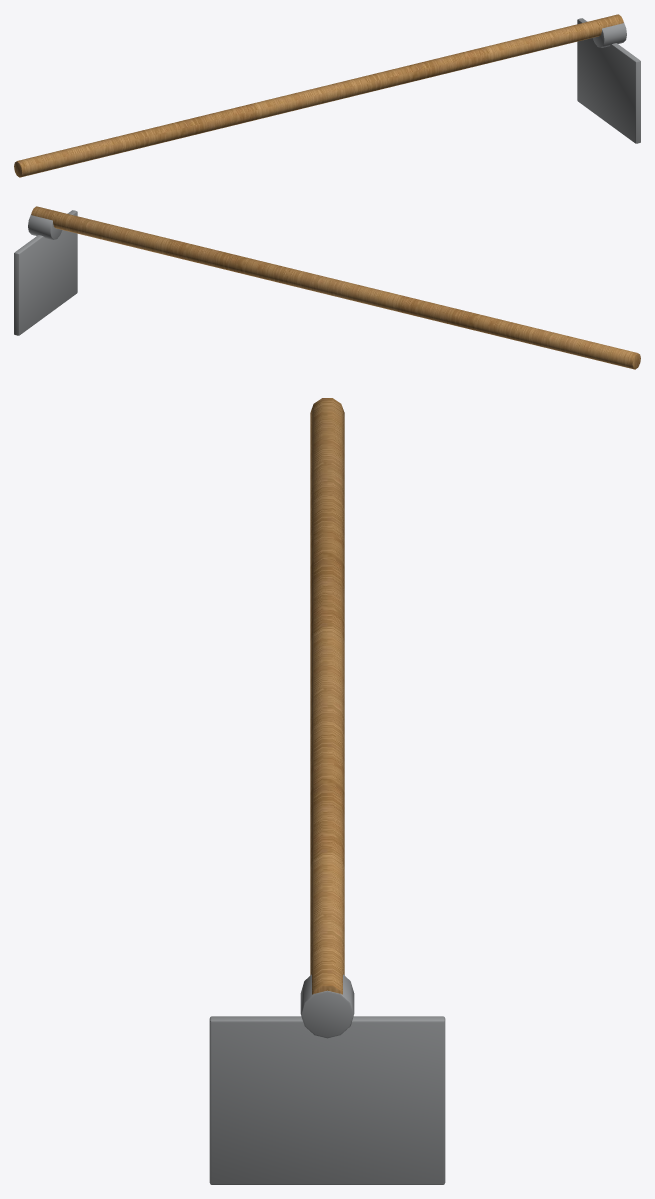
Rendered from EQP-MAO-004.glb.
The picture shows the model from 3 angles, top to bottom: view 1: azimuth 30°, elevation 25°; view 2: azimuth 150°, elevation 25°; view 3: azimuth 270°, elevation 25°; orthographic projection. The views are drawn at different scales.
Parts seen in each view (by area): view 1: EQP-MAO-004_cabo, EQP-MAO-004_lamina, EQP-MAO-004_olho; view 2: EQP-MAO-004_cabo, EQP-MAO-004_lamina, EQP-MAO-004_olho; view 3: EQP-MAO-004_lamina, EQP-MAO-004_cabo, EQP-MAO-004_olho.
Part boxes in pixels (box(x1,y1,x2,y2)): EQP-MAO-004_cabo: box(14, 14, 623, 177); EQP-MAO-004_lamina: box(577, 18, 640, 143); EQP-MAO-004_olho: box(592, 22, 626, 47); EQP-MAO-004_cabo: box(31, 206, 640, 369); EQP-MAO-004_lamina: box(14, 210, 77, 335); EQP-MAO-004_olho: box(28, 214, 62, 239); EQP-MAO-004_lamina: box(209, 1016, 445, 1184); EQP-MAO-004_cabo: box(310, 398, 344, 994); EQP-MAO-004_olho: box(300, 974, 354, 1038).
Size of the model in its own units: 1.3 by 0.2153 by 0.22.
2 materials, 1 textured.
